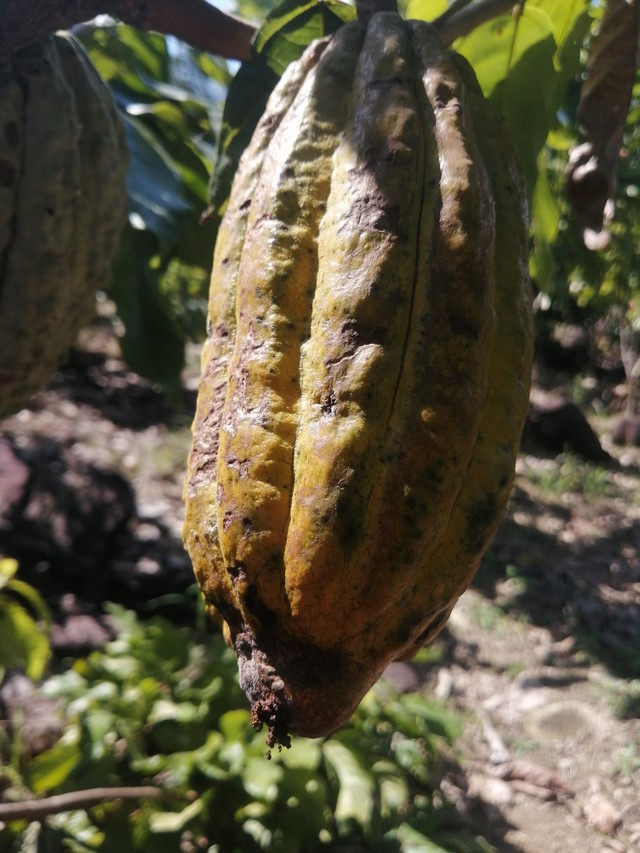carmenta foraseminis: (179, 20, 544, 737)
